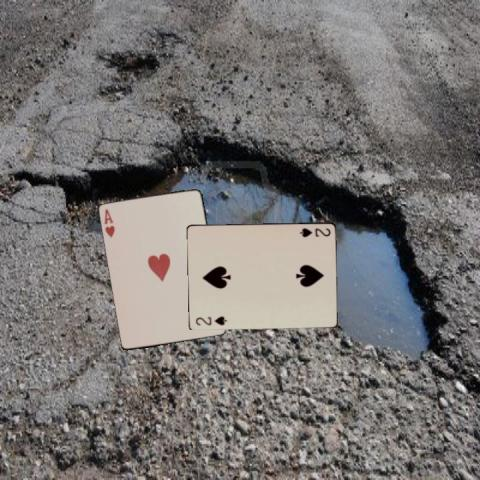2s: (297, 225, 332, 238), (193, 313, 228, 326)
Ah: (101, 206, 117, 239)
